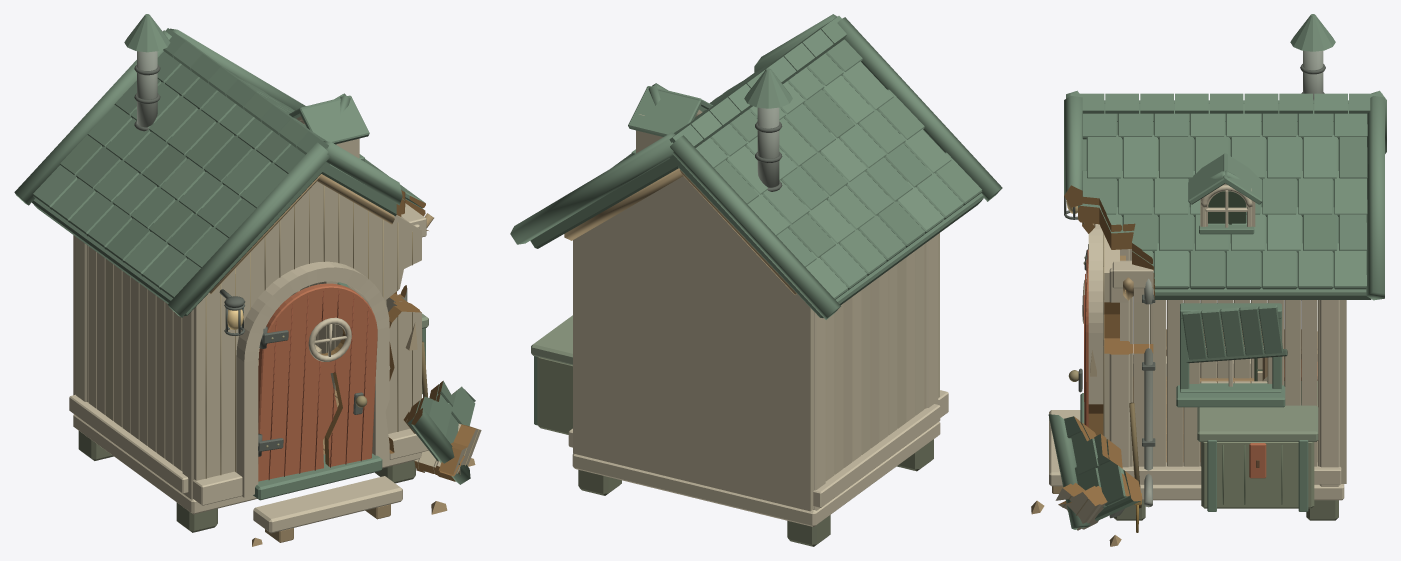
3 views of the same model, side by side, from view 1: azimuth 30°, elevation 25°; view 2: azimuth 150°, elevation 25°; view 3: azimuth 270°, elevation 25° (orthographic). The views are drawn at different scales.
Parts seen in each view (by area): view 1: asset_root_geometry, roof_assembly, door_assembly, fallen_roof_corner, authored_static_debris; view 2: asset_root_geometry, roof_assembly; view 3: roof_assembly, asset_root_geometry, fallen_roof_corner, window_awning, authored_static_debris, door_assembly.
Part boxes in pixels (x1,y1,x2,y2): asset_root_geometry: [69, 181, 433, 542]; roof_assembly: [14, 14, 425, 317]; door_assembly: [258, 283, 377, 481]; fallen_roof_corner: [403, 380, 475, 484]; authored_static_debris: [252, 230, 481, 546]; asset_root_geometry: [531, 176, 948, 546]; roof_assembly: [510, 14, 1002, 319]; roof_assembly: [1064, 14, 1386, 300]; asset_root_geometry: [1049, 196, 1346, 532]; fallen_roof_corner: [1048, 414, 1142, 529]; window_awning: [1182, 305, 1287, 363]; authored_static_debris: [1031, 255, 1125, 546]; door_assembly: [1068, 244, 1088, 427].
Bounding box in the file's own units: 0.3156 × 0.3915 × 0.2965.
